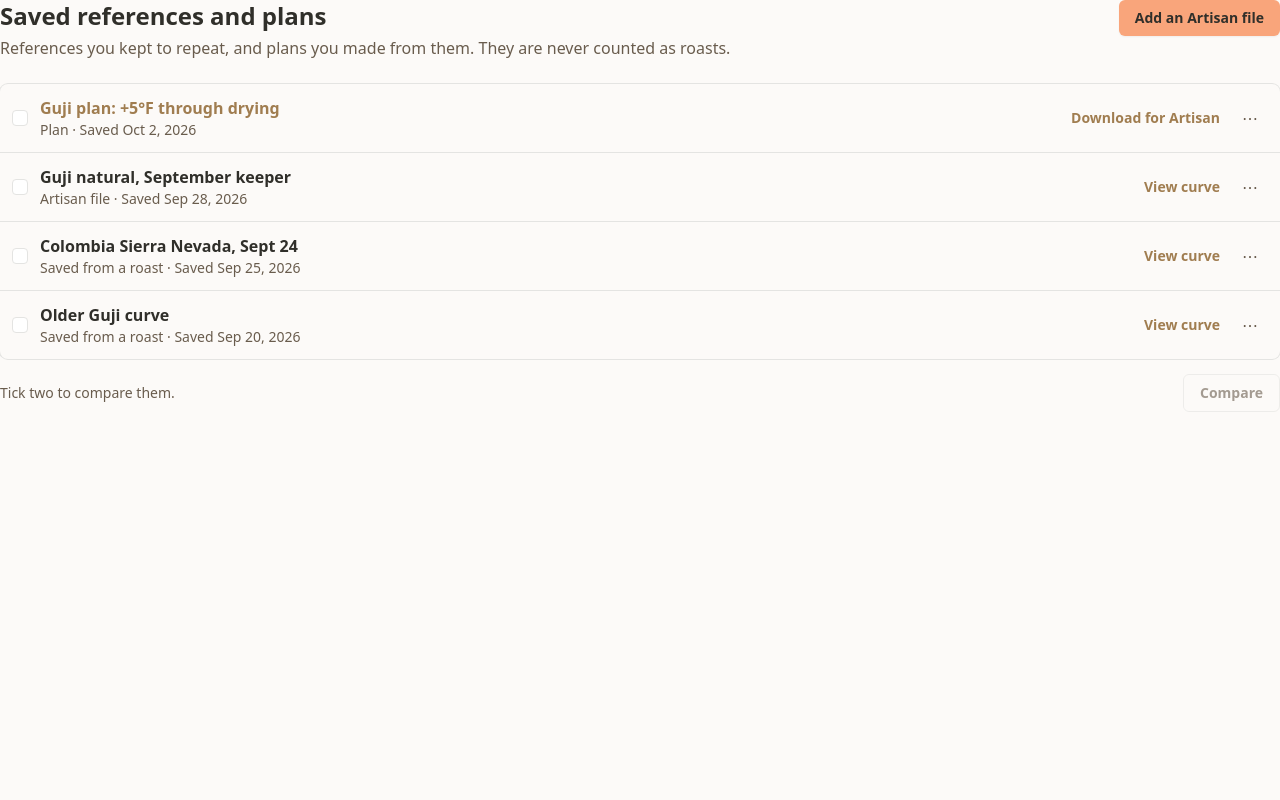
removing › asks first, and removes nothing when the member keeps it
Click the button "⋯" in the row of "Guji natural, September keeper" at (1250, 187), box [1232,169,1268,205]
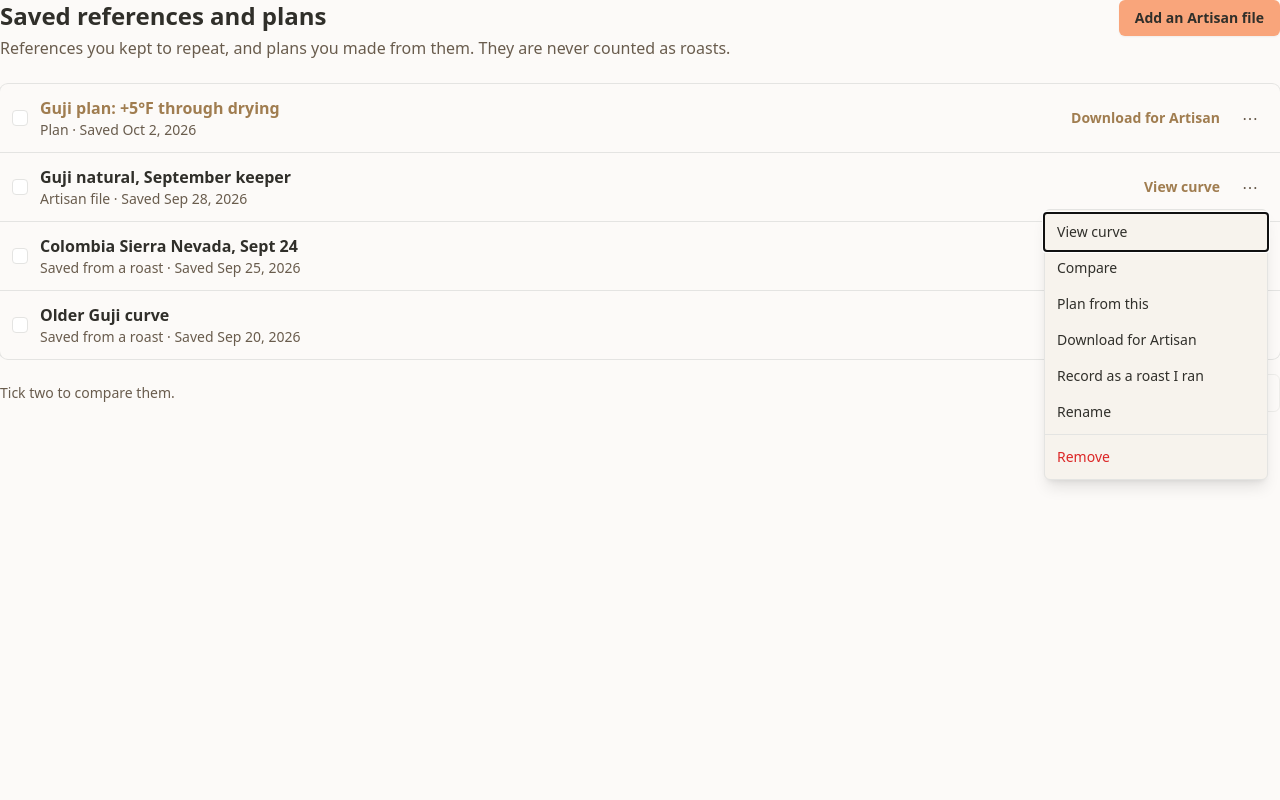
Click the menu item "Remove" at (1156, 457), box [1045,439,1267,475]
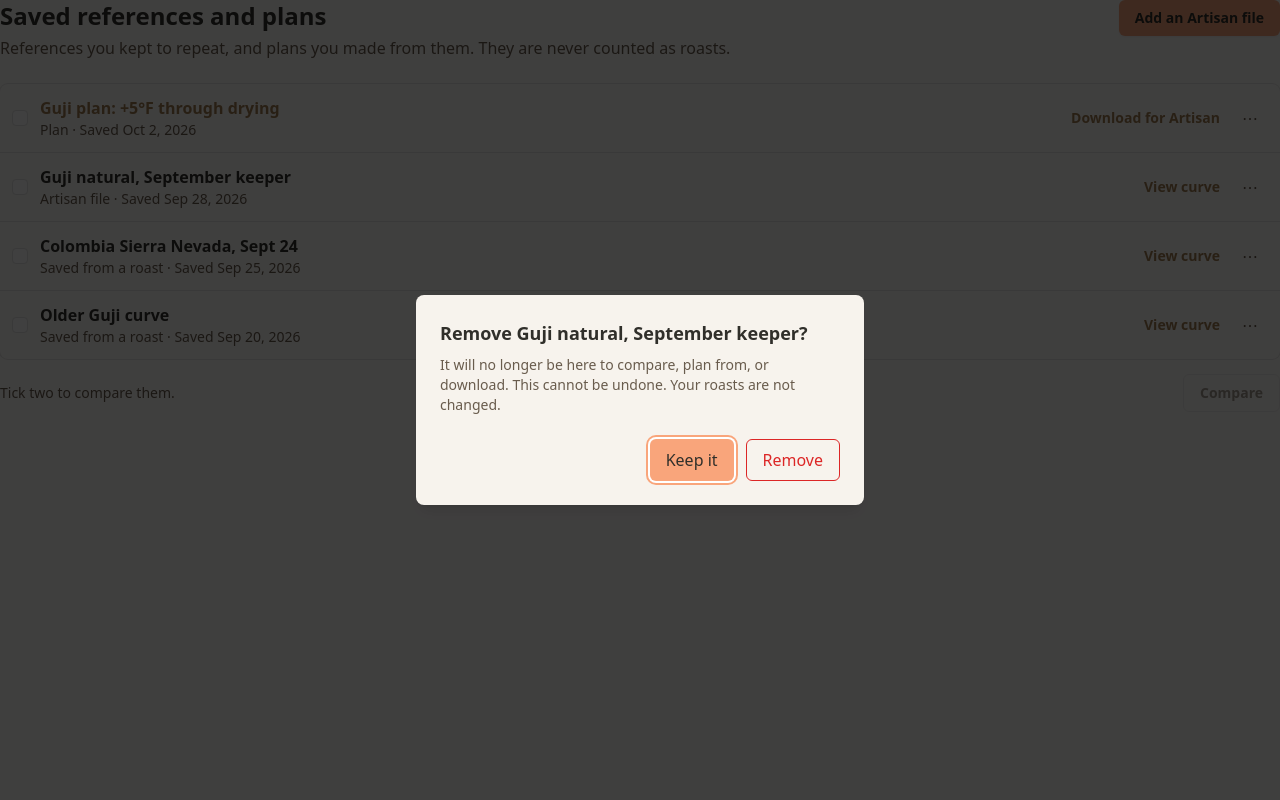
Click the button "Keep it" at (692, 460), box [650,439,734,481]
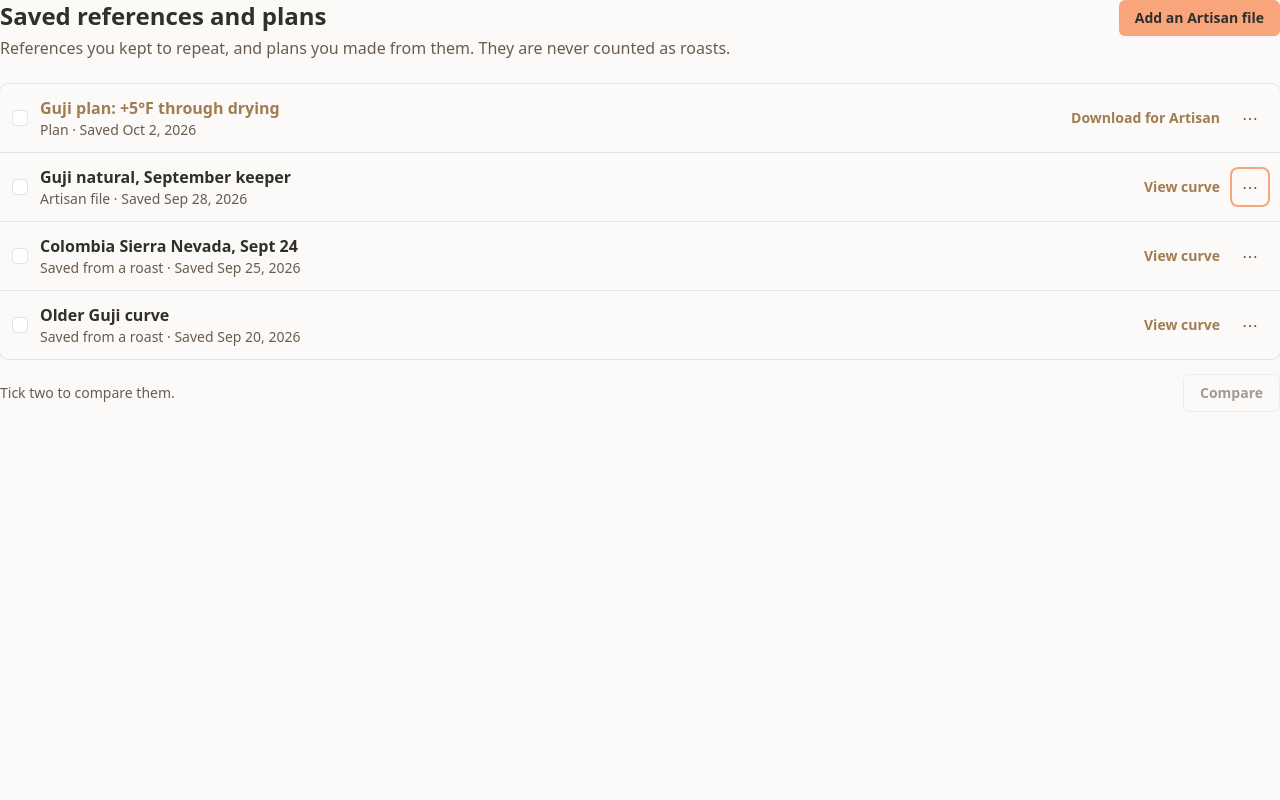
Expected: the dialog is gone
